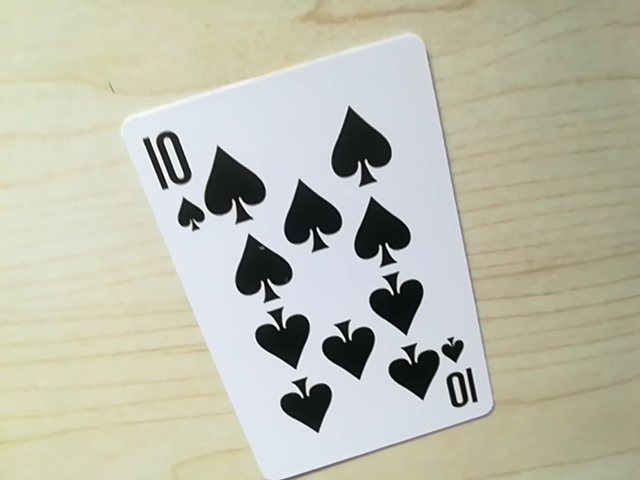ht 10: (145, 122, 207, 234), (442, 350, 482, 415)
